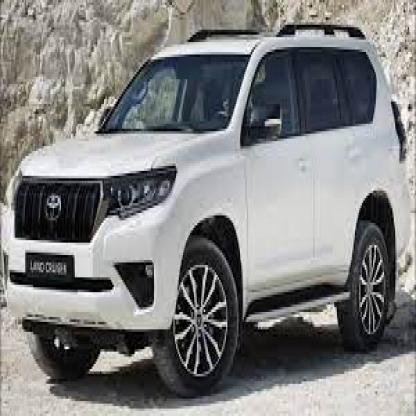jeep: (0, 22, 413, 396)
